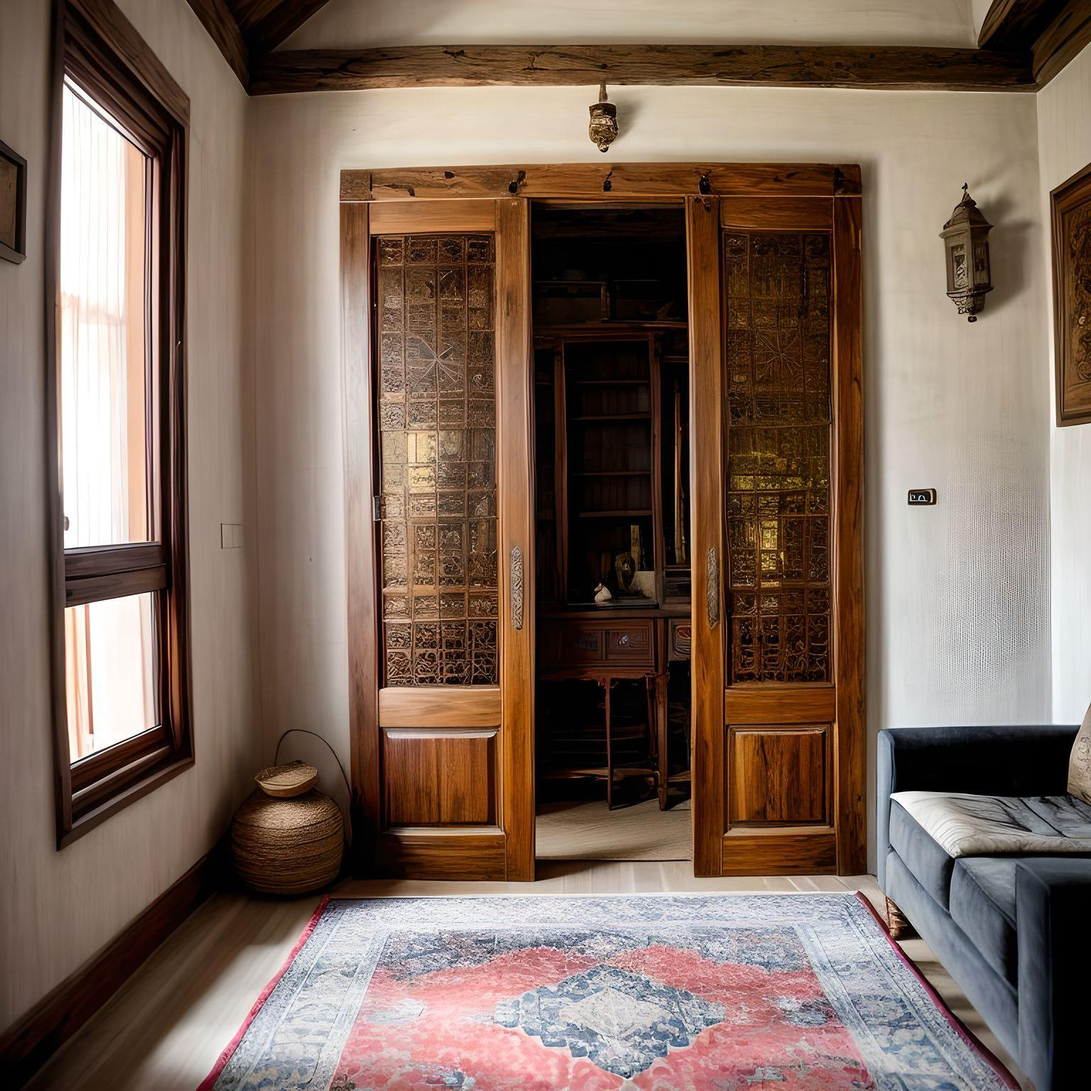door: (347, 189, 522, 895), (707, 201, 831, 881)
light: (939, 182, 1001, 331)
sofa: (876, 680, 1091, 1091)
switchboard: (215, 519, 250, 559)
